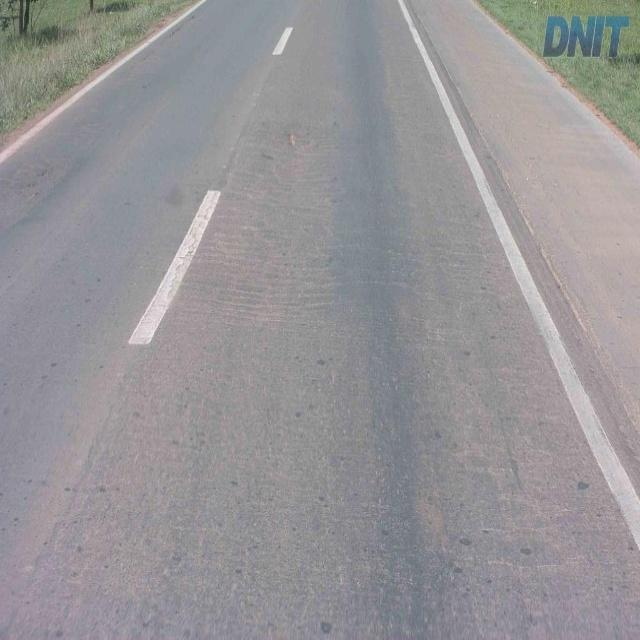pothole: (285, 128, 301, 146)
